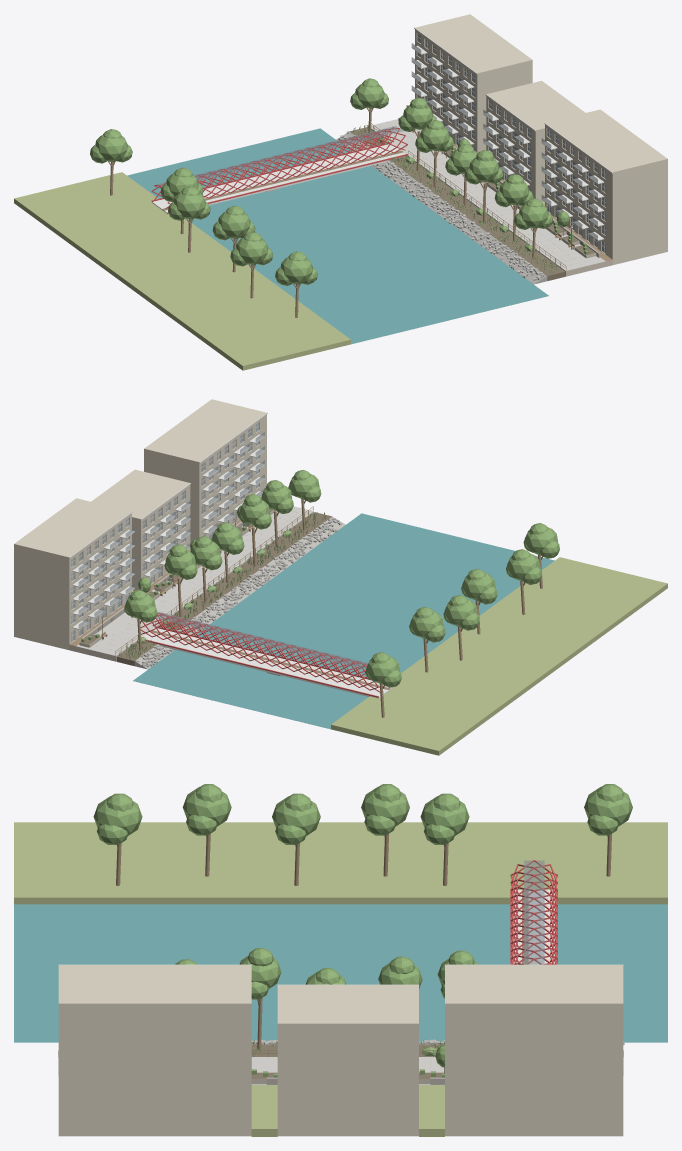
The model's file is clay-calgary-riverwalk-clay-v001.glb.
3 views of the same model, one above another, from view 1: azimuth 30°, elevation 25°; view 2: azimuth 150°, elevation 25°; view 3: azimuth 270°, elevation 25° (orthographic). The views are drawn at different scales.
Parts seen in each view (by area): view 1: CLAY_WATER, CLAY_GRASS, CLAY_BRICK, CLAY_TREE, CLAY_TRIM, CLAY_GLASS, CLAY_CONCRETE, CLAY_RED, CLAY_SOIL, CLAY_WHITE, CLAY_ROCK, CLAY_RIPRAP (+4 smaller); view 2: CLAY_WATER, CLAY_GRASS, CLAY_BRICK, CLAY_TREE, CLAY_TRIM, CLAY_GLASS, CLAY_RED, CLAY_CONCRETE, CLAY_WHITE, CLAY_SOIL, CLAY_ROCK, CLAY_TIMBER (+4 smaller); view 3: CLAY_BRICK, CLAY_GRASS, CLAY_WATER, CLAY_TREE, CLAY_RED, CLAY_GLASS, CLAY_WHITE, CLAY_TIMBER, CLAY_CONCRETE, CLAY_SOIL, CLAY_TRIM.
Boxes of the visible parts, <box> form: CLAY_WATER: <box>127,128,548,344</box>; CLAY_GRASS: <box>14,124,557,370</box>; CLAY_BRICK: <box>415,14,667,264</box>; CLAY_TREE: <box>90,78,569,285</box>; CLAY_TRIM: <box>411,27,612,253</box>; CLAY_GLASS: <box>156,33,605,253</box>; CLAY_CONCRETE: <box>371,119,605,271</box>; CLAY_RED: <box>151,127,407,213</box>; CLAY_SOIL: <box>350,117,595,280</box>; CLAY_WHITE: <box>152,143,405,214</box>; CLAY_ROCK: <box>338,131,544,280</box>; CLAY_RIPRAP: <box>336,131,547,284</box>; CLAY_WATER: <box>133,513,554,729</box>; CLAY_GRASS: <box>119,512,667,755</box>; CLAY_BRICK: <box>14,399,266,649</box>; CLAY_TREE: <box>124,470,559,687</box>; CLAY_TRIM: <box>69,412,267,641</box>; CLAY_GLASS: <box>71,423,368,669</box>; CLAY_RED: <box>140,613,380,697</box>; CLAY_CONCRETE: <box>76,506,313,656</box>; CLAY_WHITE: <box>142,627,393,698</box>; CLAY_SOIL: <box>80,509,331,665</box>; CLAY_ROCK: <box>135,517,341,667</box>; CLAY_TIMBER: <box>69,499,542,717</box>; CLAY_BRICK: <box>58,965,623,1136</box>; CLAY_GRASS: <box>14,822,667,1136</box>; CLAY_WATER: <box>14,904,667,1042</box>; CLAY_TREE: <box>93,784,632,1067</box>; CLAY_RED: <box>510,860,557,964</box>; CLAY_GLASS: <box>524,860,544,964</box>; CLAY_WHITE: <box>513,890,554,964</box>; CLAY_TIMBER: <box>116,834,611,1073</box>; CLAY_CONCRETE: <box>251,1057,444,1084</box>; CLAY_SOIL: <box>251,1044,444,1079</box>; CLAY_TRIM: <box>58,964,623,986</box>.
Size of the model in its own units: 98 by 19.7 by 88.
